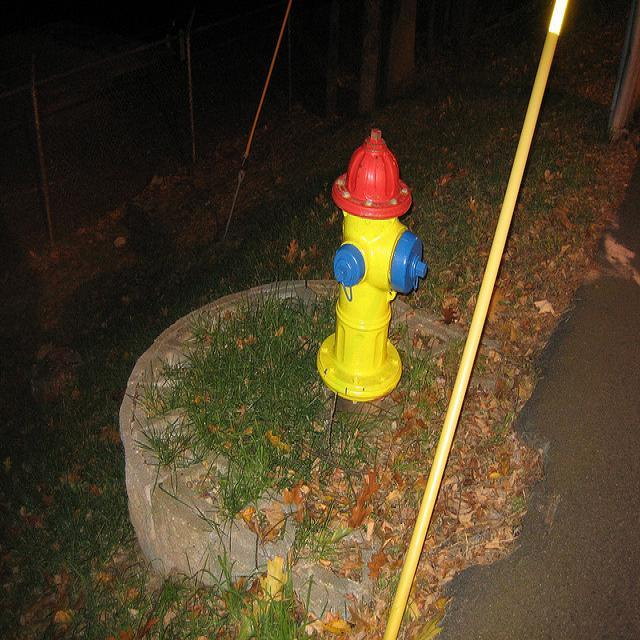fire_hydrant: (315, 128, 427, 411)
